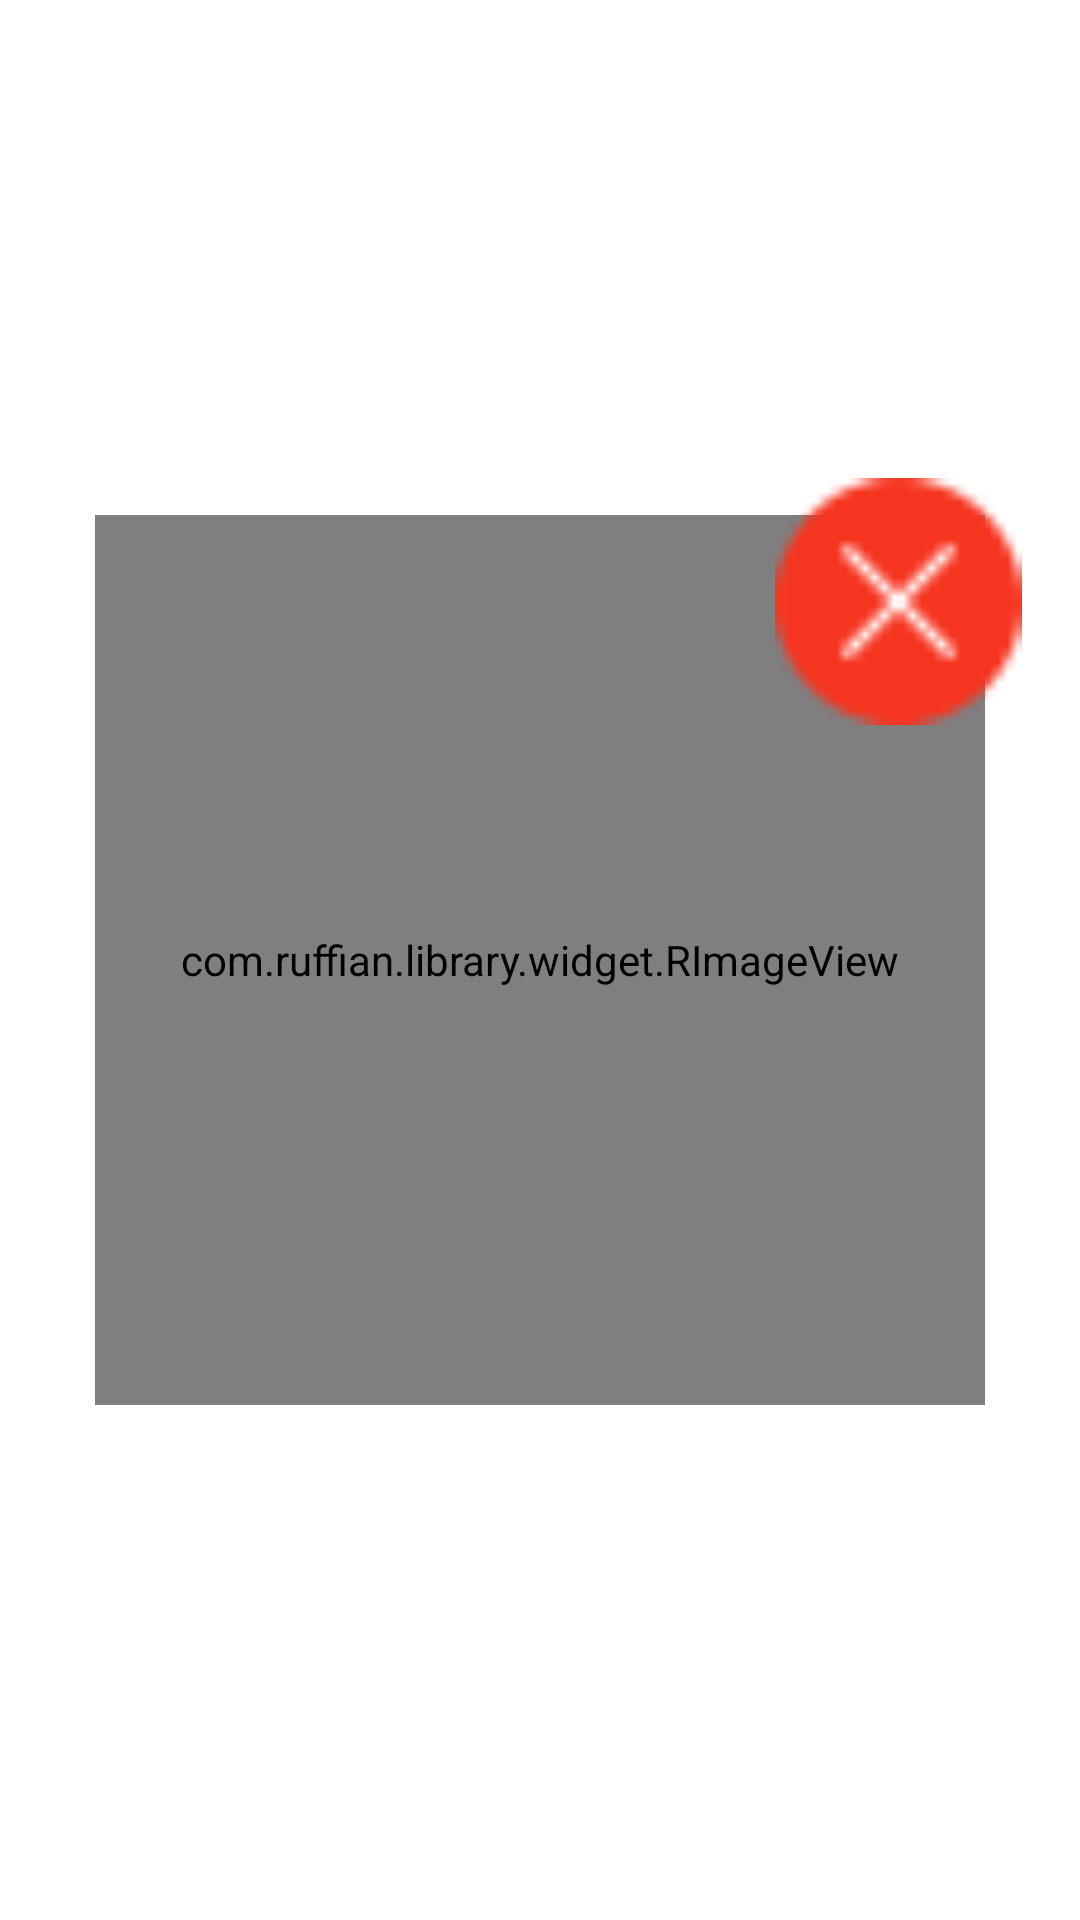

Icon click points for this 1080*1920 phone screenshot, format [x,y]:
delete: [883,617]
